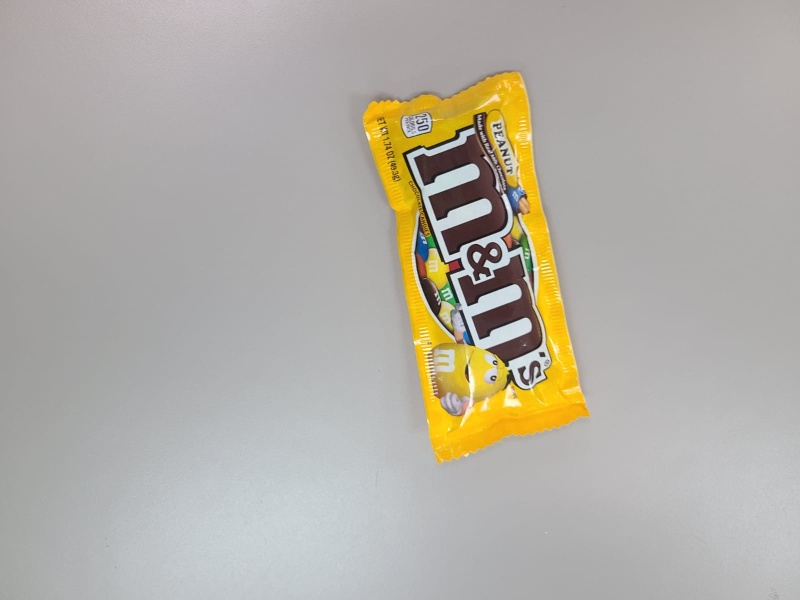m&m: (361, 66, 591, 466)
